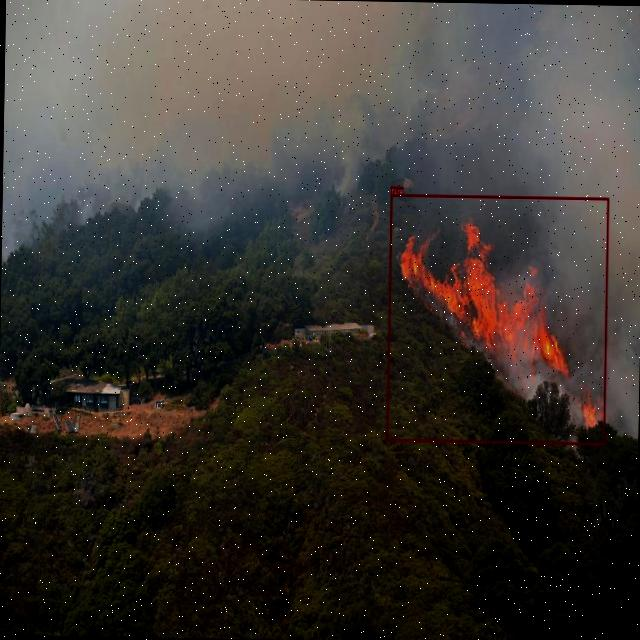fire: (386, 194, 608, 444)
